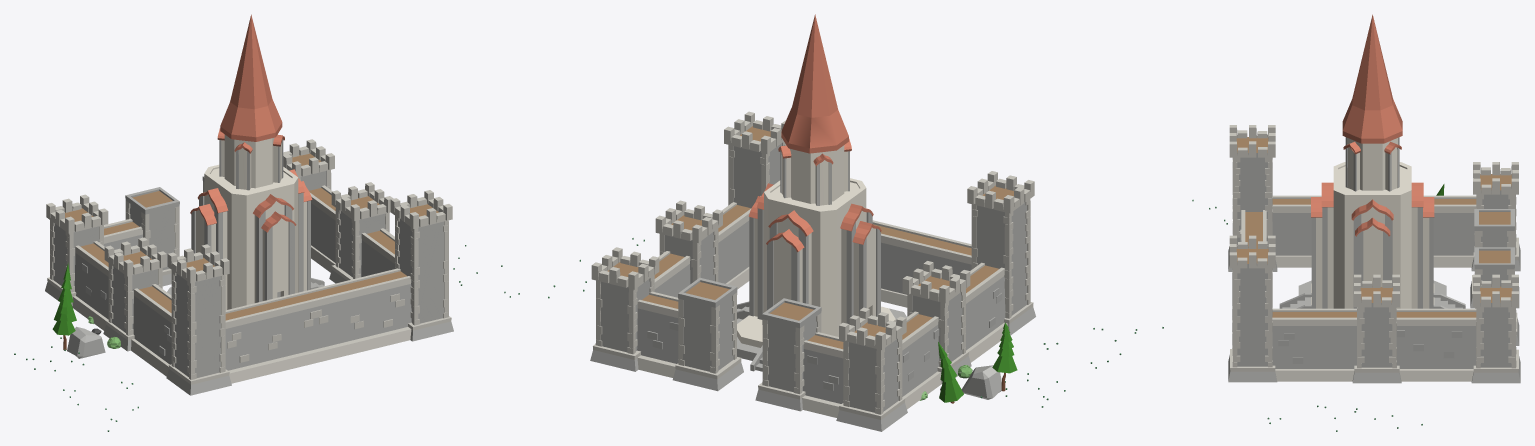
Rendered from chunk_1_0.glb.
3 views of the same model, side by side, from view 1: azimuth 30°, elevation 25°; view 2: azimuth 150°, elevation 25°; view 3: azimuth 270°, elevation 25° (orthographic). The views are drawn at different scales.
Visible parts, largest first — view 1: Batched_chunk_1_0; view 2: Batched_chunk_1_0; view 3: Batched_chunk_1_0.
Part boxes in pixels (left/top/right/bottom): Batched_chunk_1_0: left=14, top=14, right=519, bottom=431; Batched_chunk_1_0: left=548, top=14, right=1163, bottom=431; Batched_chunk_1_0: left=1192, top=14, right=1520, bottom=431.
Size of the model in its own units: 88.17 by 55.33 by 52.94.
12 materials, 2 textured.
